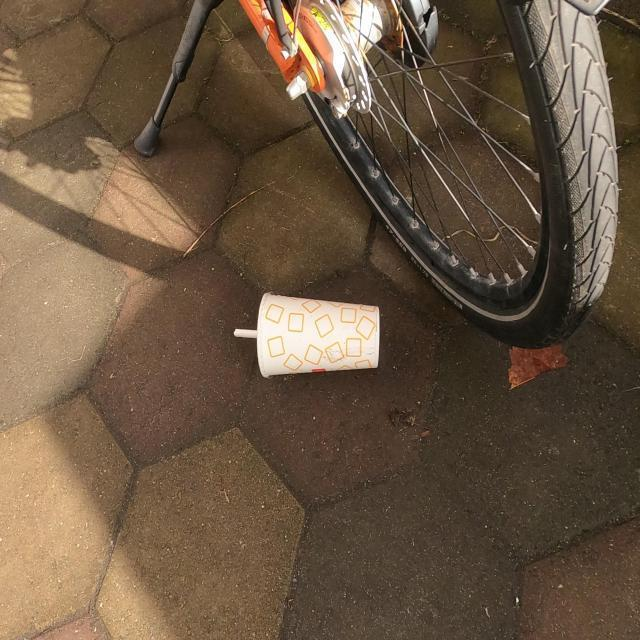Cup: (232, 290, 381, 381)
